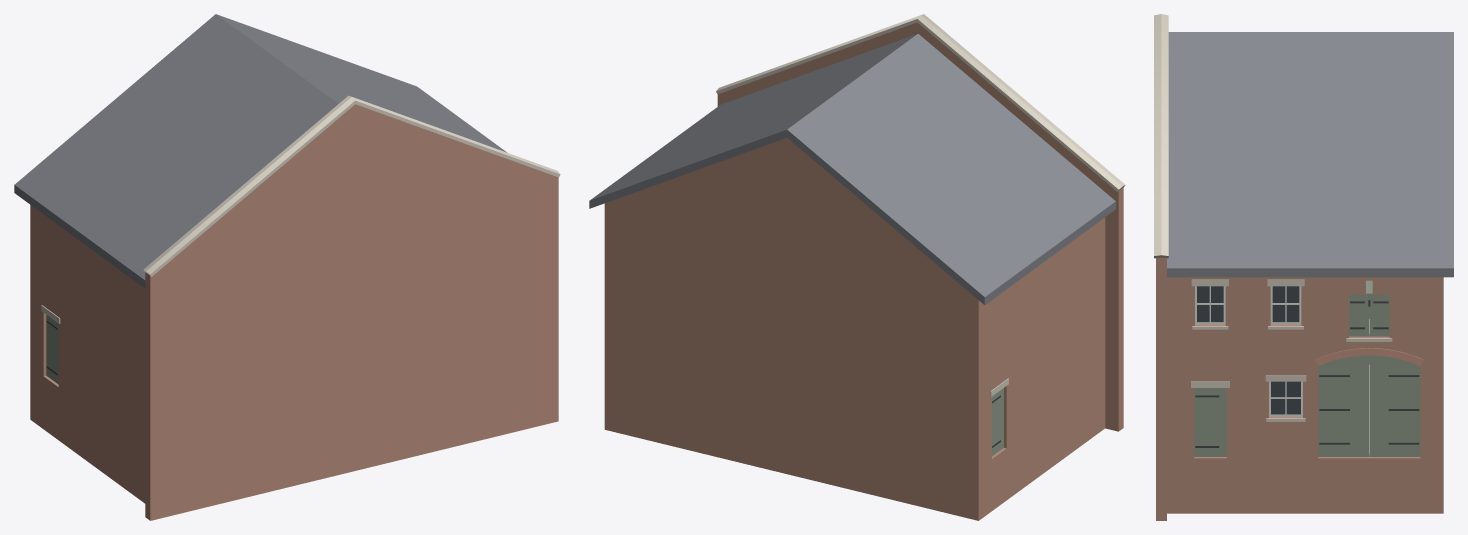
File: mayer_house_2009_prairie_coach_house__as_standing_1904.glb
The picture shows the model from 3 angles, left to right: view 1: azimuth 30°, elevation 25°; view 2: azimuth 150°, elevation 25°; view 3: azimuth 270°, elevation 25°; orthographic projection. The views are drawn at different scales.
Parts seen in each view (by area): view 1: mayer_house_2009_prairie_coach_house__as_standing_1904; view 2: mayer_house_2009_prairie_coach_house__as_standing_1904; view 3: mayer_house_2009_prairie_coach_house__as_standing_1904.
Boxes of the visible parts, bbox=[...] form: mayer_house_2009_prairie_coach_house__as_standing_1904: bbox=[14, 14, 560, 520]; mayer_house_2009_prairie_coach_house__as_standing_1904: bbox=[589, 14, 1125, 520]; mayer_house_2009_prairie_coach_house__as_standing_1904: bbox=[1154, 14, 1453, 520].
Bounding box in the file's own units: 15.35 × 12.99 × 8.82.
